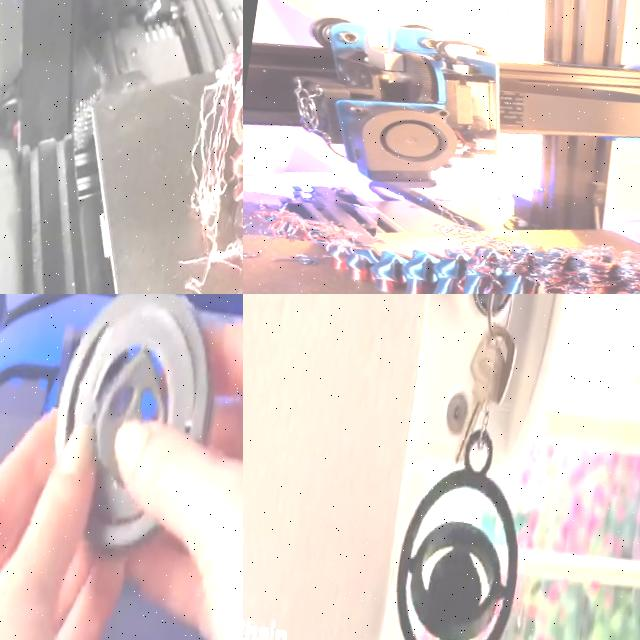spaghetti: (160, 48, 243, 294), (463, 226, 640, 294), (243, 178, 382, 251)
